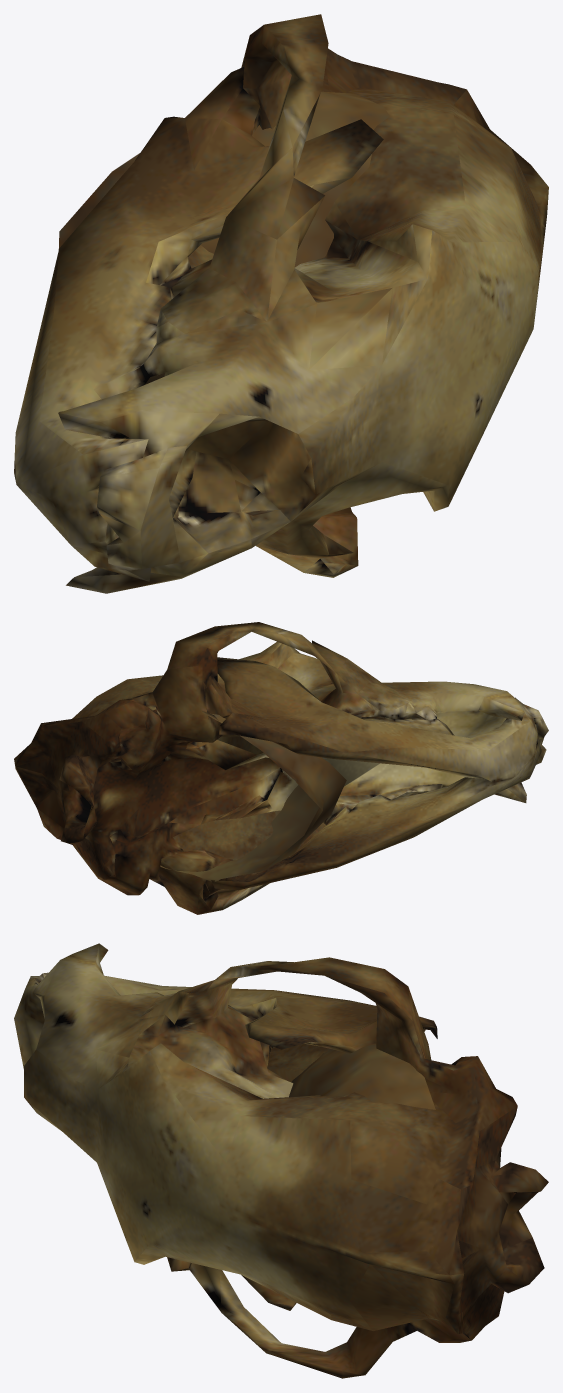
The model's file is F_BearSkullMask.fbx.
The picture shows the model from 3 angles, top to bottom: view 1: azimuth 30°, elevation 25°; view 2: azimuth 150°, elevation 25°; view 3: azimuth 270°, elevation 25°; orthographic projection. The views are drawn at different scales.
Parts seen in each view (by area): view 1: 32_bear; view 2: 32_bear; view 3: 32_bear.
Part boxes in pixels (x1,y1,x2,y2): 32_bear: (14, 14, 548, 593); 32_bear: (14, 622, 548, 914); 32_bear: (14, 943, 548, 1378).
Bounding box in the file's own units: 0.2479 × 0.1699 × 0.2094.
